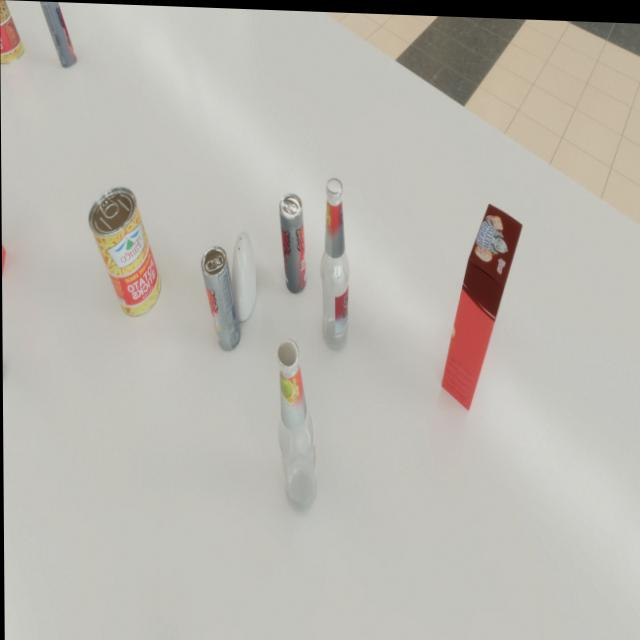Bottle: (276, 336, 318, 513), (319, 175, 350, 348)
HelloPanda: (440, 198, 524, 409)
Potato_sticks: (88, 185, 161, 317), (0, 0, 25, 65)
Rita_zero_sugar: (201, 244, 241, 350), (279, 191, 306, 292), (39, 1, 77, 67)
Salt: (230, 228, 256, 320)
